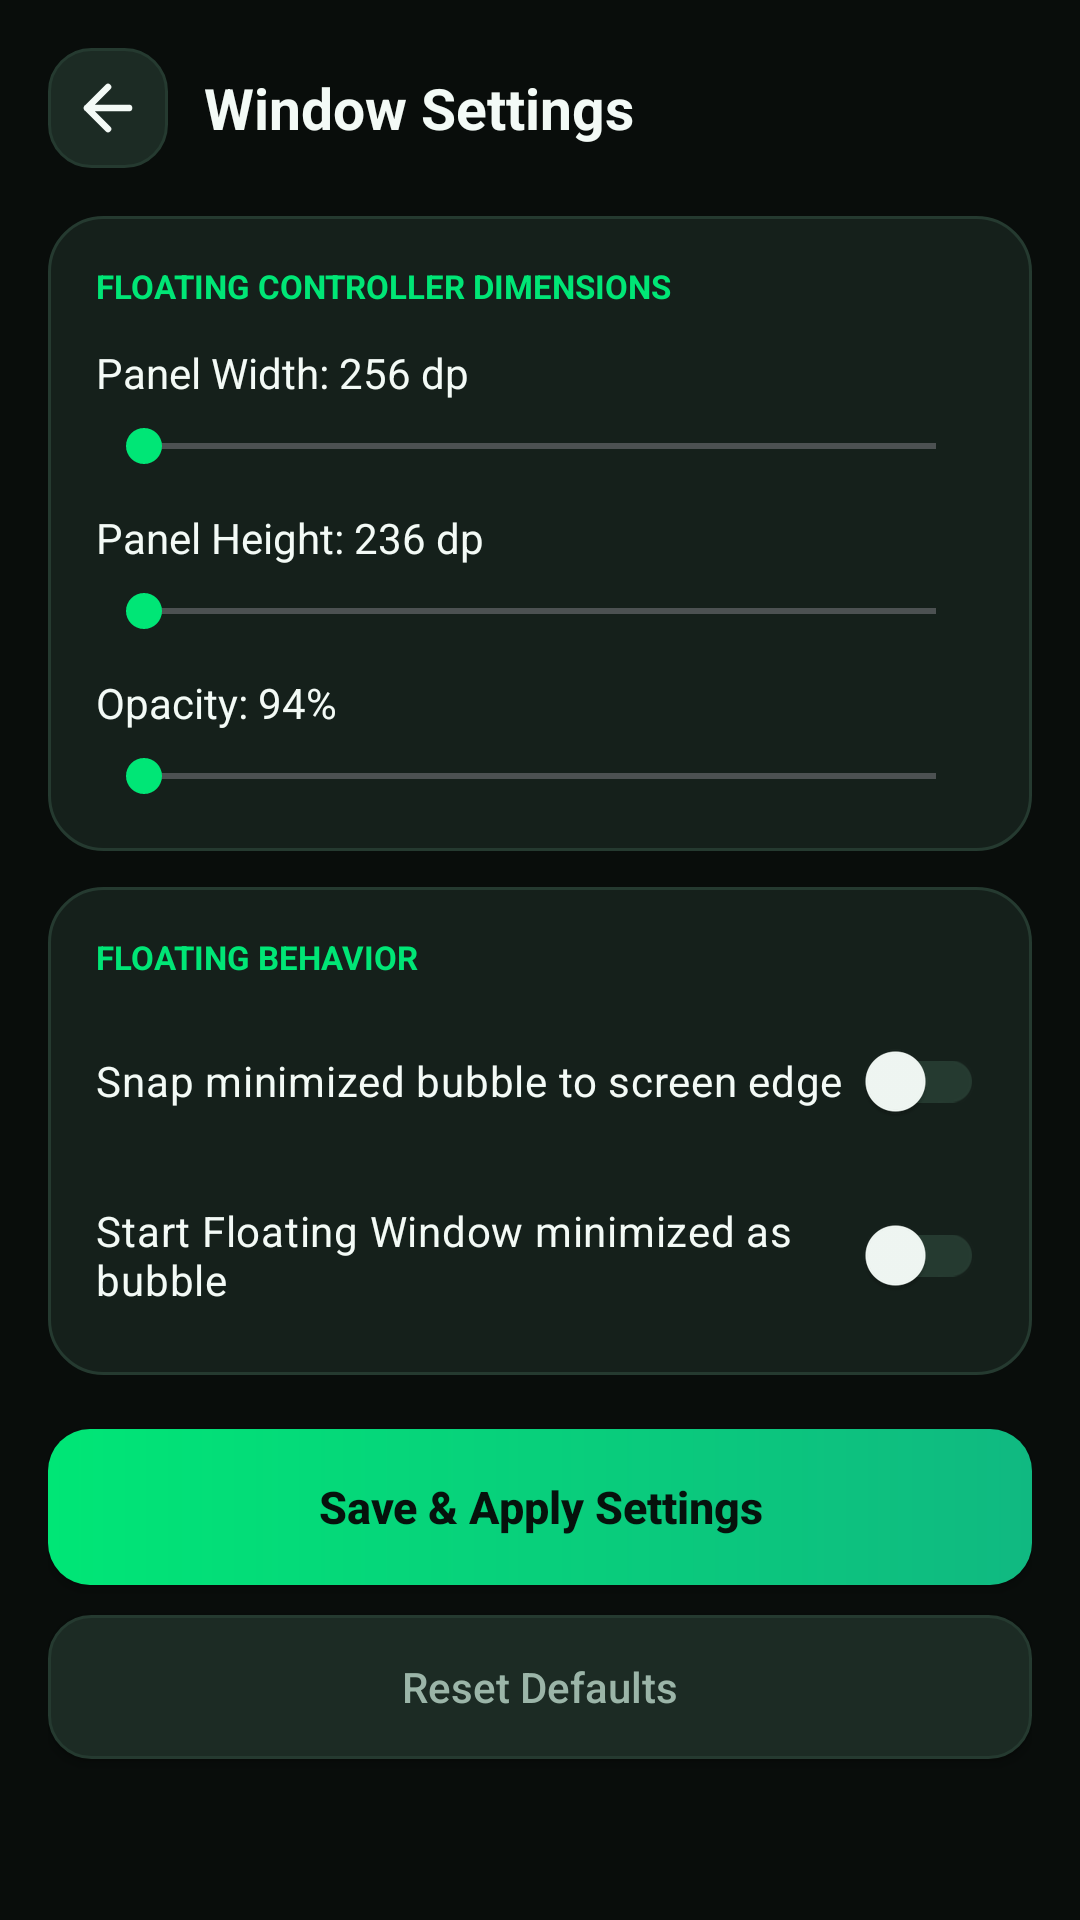

Locate icon controls on the screen. Image size 1080px x 1920px, boxes as (x1, y1, x2, y2).
Back: (48, 48, 168, 168)
